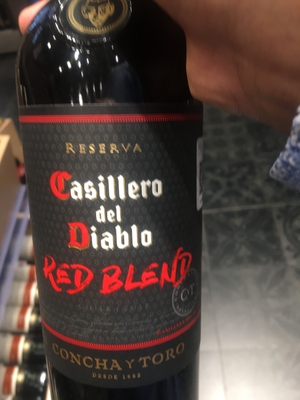casillero del diablo red blend: (18, 9, 223, 393)
